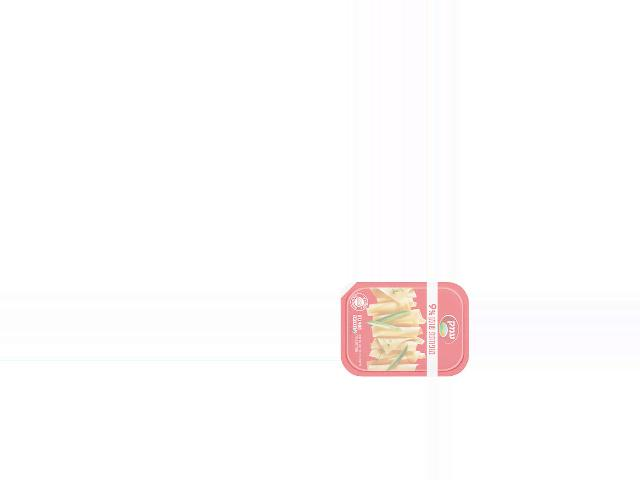cheese: (340, 282, 469, 377)
